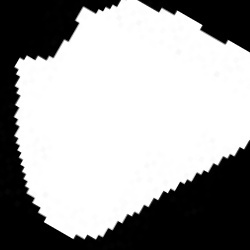spot: (15, 1, 247, 241)
